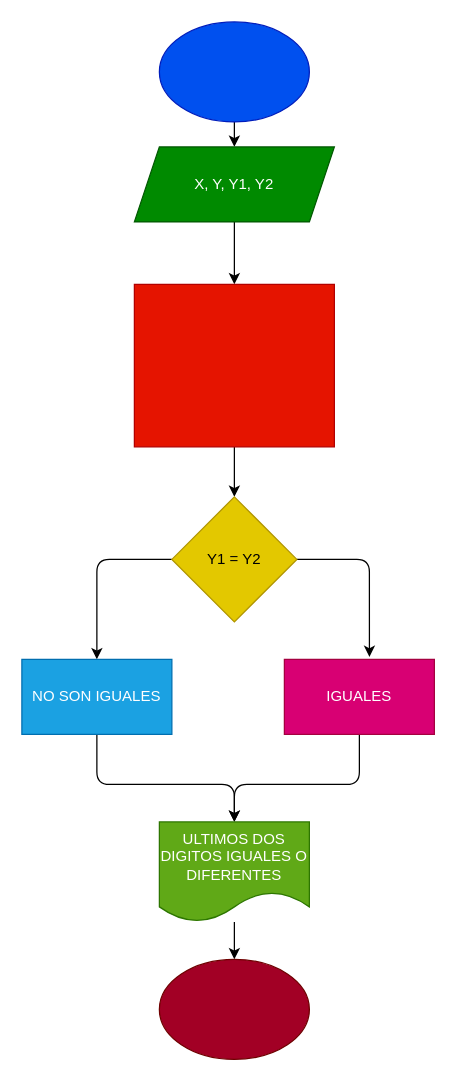
Image size: 456x1081. Some labels were removed from this diagram. The shapes that lost their labels are listed below. From the top down, each one's centre as x and y in pixels, then its label:
point (233, 71): INICIO
point (233, 365): Y = X % 100 Y1 = Y > 10 Y1 = TRUNC (Y/10) Y2 = Y % 10
point (233, 1008): FIN
